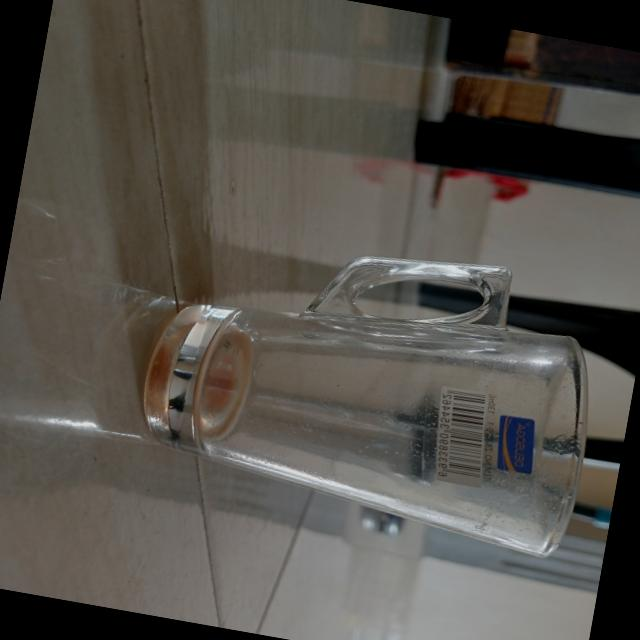glass-VX4N: (129, 215, 613, 560)
